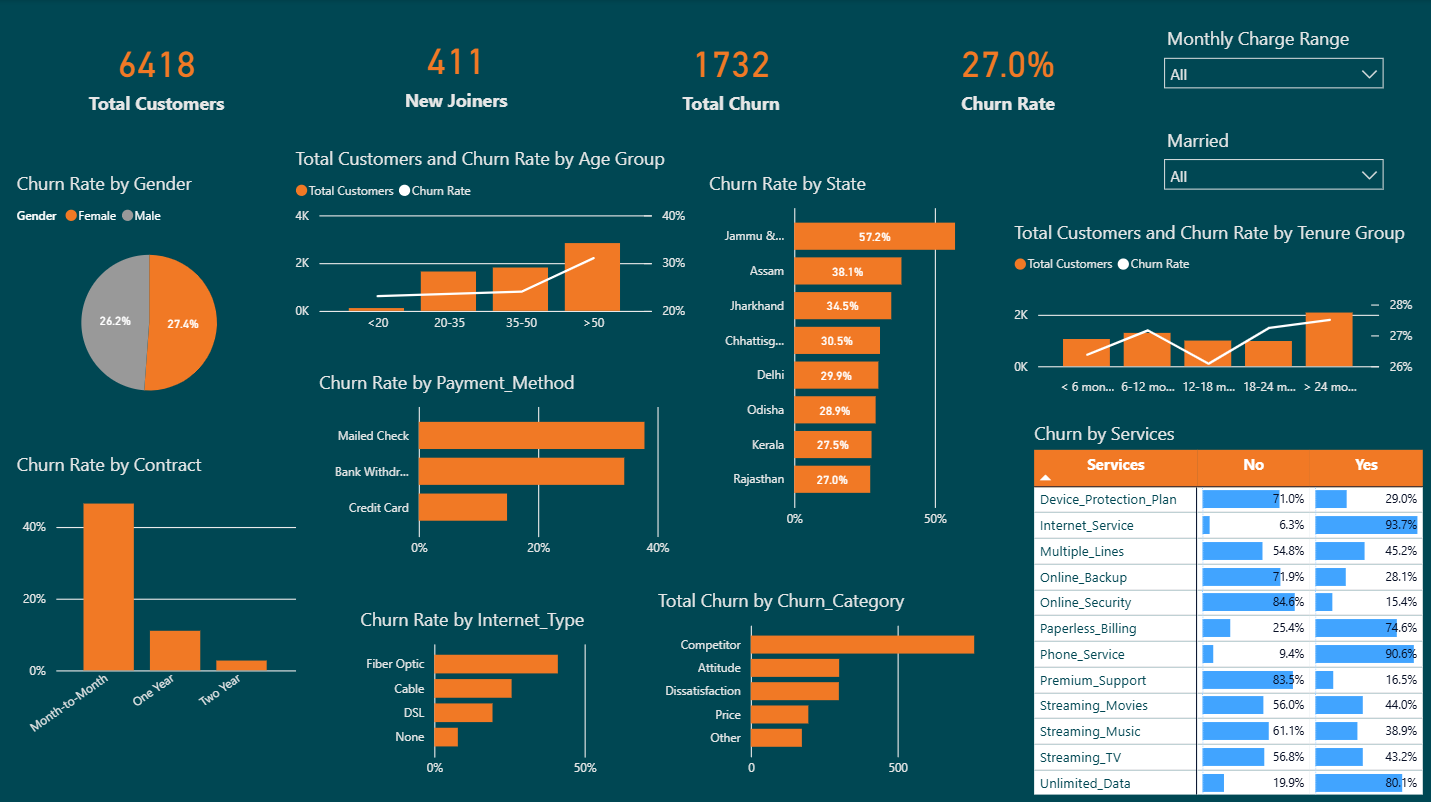

What the dashboard file says about the page in this screenshot:
{"tool":"powerbi","page":{"name":"Summary","canvas":[1280,720],"ordinal":0},"visuals":[{"type":"card","fields":{"Values":["tbl_Measures.Total Customers"]},"box":[0,2.5,280,128.5],"z":0},{"type":"card","fields":{"Values":["tbl_Measures.New Joiners"]},"box":[280,0,254.5,128.5],"z":1000},{"type":"card","fields":{"Values":["tbl_Measures.Total Churn"]},"box":[534.5,2.5,236.7,128.5],"z":2000},{"type":"card","fields":{"Values":["tbl_Measures.Churn Rate"]},"box":[771.2,2.5,258.3,128.5],"z":3000},{"type":"pieChart","fields":{"Category":["prod_Churn.Gender"],"Y":["tbl_Measures.Churn Rate"]},"box":[10,153,246.8,223.3],"z":4000},{"type":"lineStackedColumnComboChart","fields":{"Category":["Age_Mapping.Age Group"],"Y":["tbl_Measures.Total Customers"],"Y2":["tbl_Measures.Churn Rate"]},"box":[259.6,131.1,358.9,175.6],"z":5000},{"type":"clusteredBarChart","fields":{"Category":["prod_Churn.Payment_Method"],"Y":["tbl_Measures.Churn Rate"]},"box":[280,330.9,323.2,176.9],"z":6000},{"type":"clusteredColumnChart","fields":{"Category":["prod_Churn.Contract"],"Y":["tbl_Measures.Churn Rate"]},"box":[10.2,404.7,259.6,264.7],"z":7000},{"type":"lineStackedColumnComboChart","fields":{"Category":["Tenure_Mapping.Tenure Group"],"Y":["tbl_Measures.Total Customers"],"Y2":["tbl_Measures.Churn Rate"]},"box":[901,196,366.5,164.2],"z":8000},{"type":"clusteredBarChart","fields":{"Category":["prod_Churn.State"],"Y":["tbl_Measures.Churn Rate"]},"box":[628.7,152.7,272.3,328.3],"z":9000},{"type":"clusteredBarChart","fields":{"Category":["prod_Churn.Churn_Category"],"Y":["tbl_Measures.Total Churn"]},"box":[582.9,525.6,311.8,178.2],"z":10000},{"type":"clusteredBarChart","fields":{"Category":["prod_Churn.Internet_Type"],"Y":["tbl_Measures.Churn Rate"]},"box":[316.9,542.1,248.2,161.6],"z":11000},{"type":"pivotTable","title":"Churn by Services","fields":{"Rows":["services_mapping.Services"],"Columns":["services_mapping.Status"],"Values":["Sum(services_mapping.ChurnStatus)"]},"box":[918.8,376.7,361.4,343.6],"z":12000},{"type":"slicer","fields":{"Values":["prod_Churn.Monthly Charge Status"]},"box":[1029.6,19.1,216.3,73.8],"z":13000},{"type":"slicer","fields":{"Values":["prod_Churn.Married"]},"box":[1029.6,109.4,216.3,86.5],"z":14000}]}

Visuals, with their boxes in screenshot pixels (x1, y1, x2, y2), scaled from the page's 1280x720 canvas onto the 1431x802 screenshot:
card - tbl_Measures.Total Customers: l=0, t=3, r=313, b=146
card - tbl_Measures.New Joiners: l=313, t=0, r=598, b=143
card - tbl_Measures.Total Churn: l=598, t=3, r=862, b=146
card - tbl_Measures.Churn Rate: l=862, t=3, r=1151, b=146
pieChart - prod_Churn.Gender x tbl_Measures.Churn Rate: l=11, t=170, r=287, b=419
lineStackedColumnComboChart - Age_Mapping.Age Group x tbl_Measures.Total Customers: l=290, t=146, r=691, b=342
clusteredBarChart - prod_Churn.Payment_Method x tbl_Measures.Churn Rate: l=313, t=369, r=674, b=566
clusteredColumnChart - prod_Churn.Contract x tbl_Measures.Churn Rate: l=11, t=451, r=302, b=746
lineStackedColumnComboChart - Tenure_Mapping.Tenure Group x tbl_Measures.Total Customers: l=1007, t=218, r=1417, b=401
clusteredBarChart - prod_Churn.State x tbl_Measures.Churn Rate: l=703, t=170, r=1007, b=536
clusteredBarChart - prod_Churn.Churn_Category x tbl_Measures.Total Churn: l=652, t=585, r=1000, b=784
clusteredBarChart - prod_Churn.Internet_Type x tbl_Measures.Churn Rate: l=354, t=604, r=632, b=784
"Churn by Services" pivotTable: l=1027, t=420, r=1430, b=801
slicer - prod_Churn.Monthly Charge Status: l=1151, t=21, r=1393, b=103
slicer - prod_Churn.Married: l=1151, t=122, r=1393, b=218
